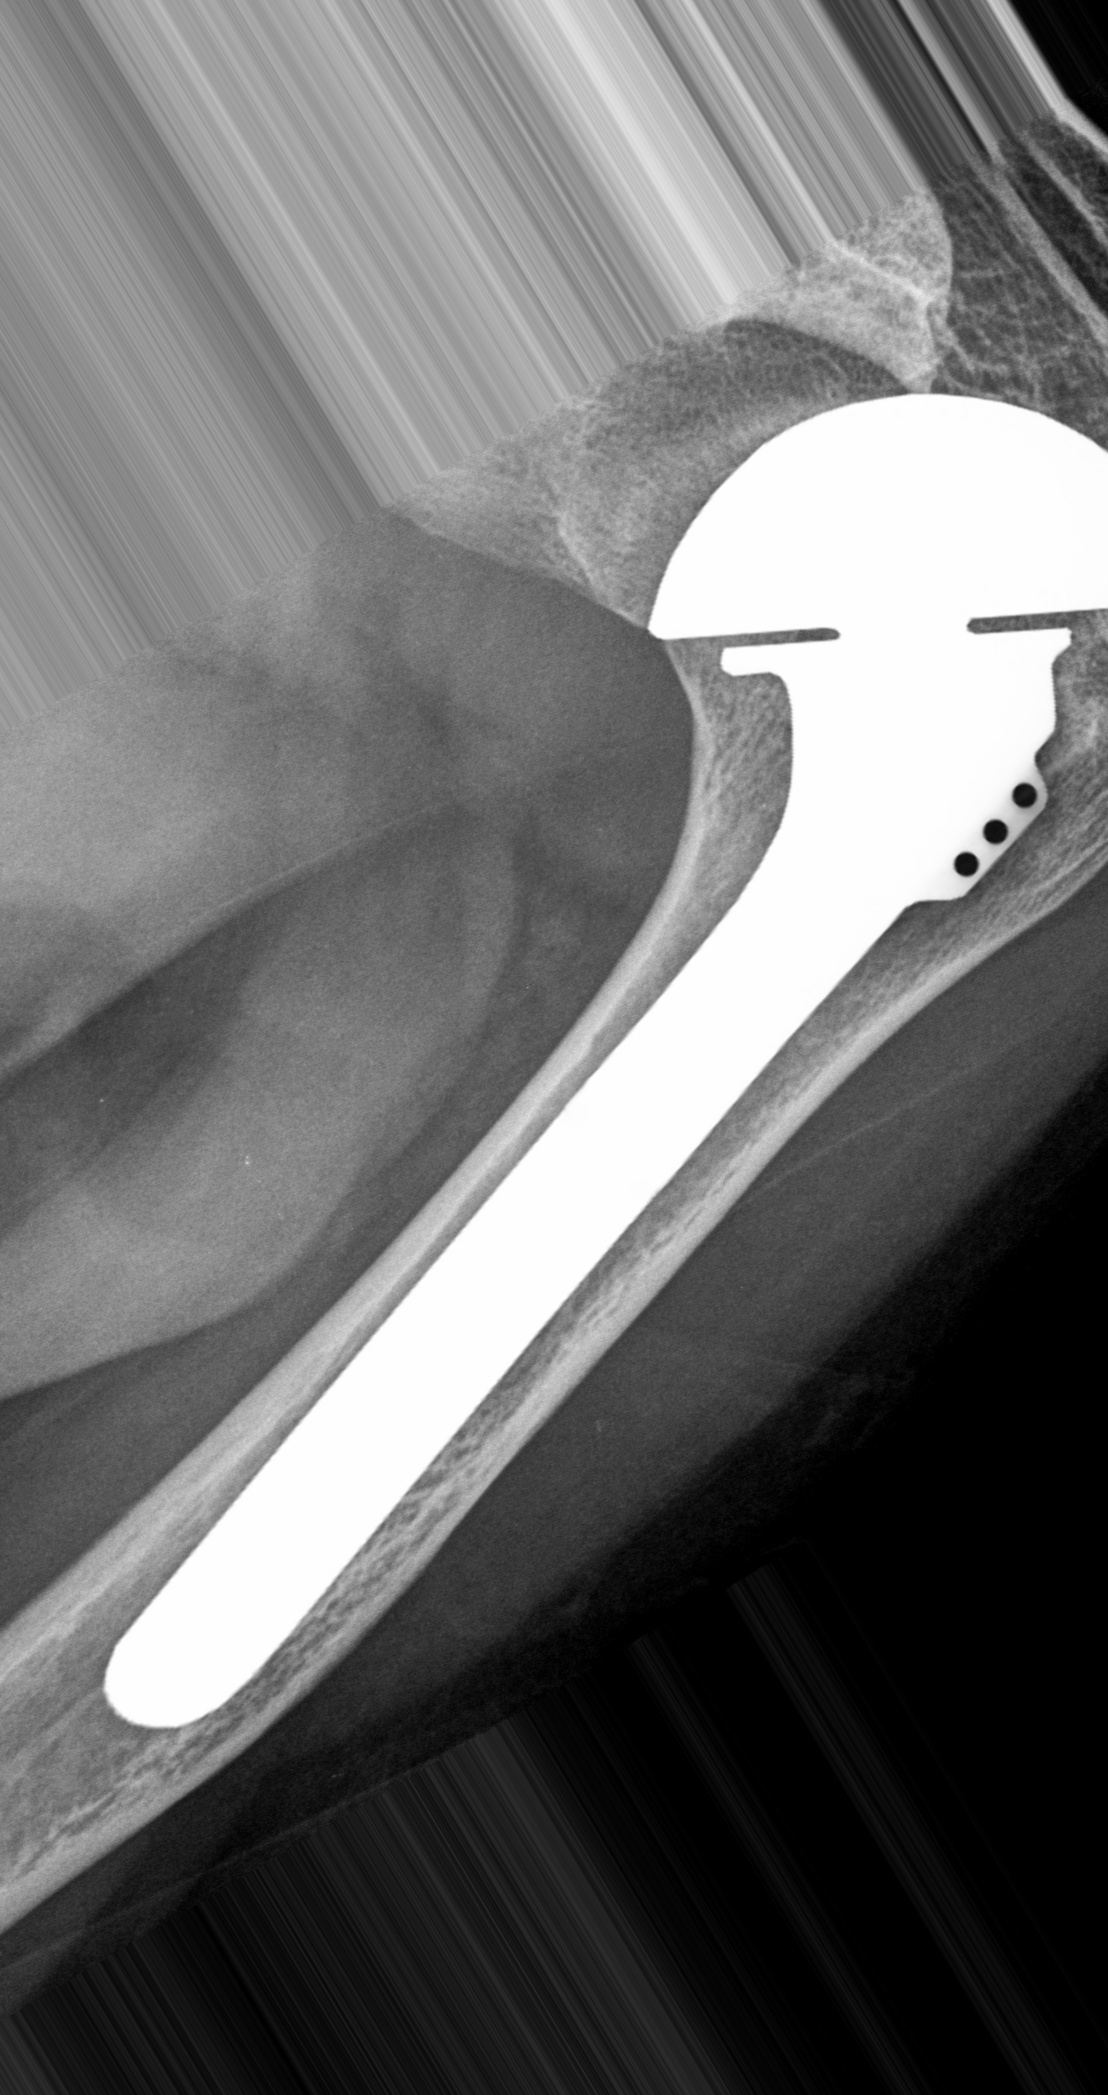Shoulder - Olympia - Wright: (645, 384, 1108, 941)
